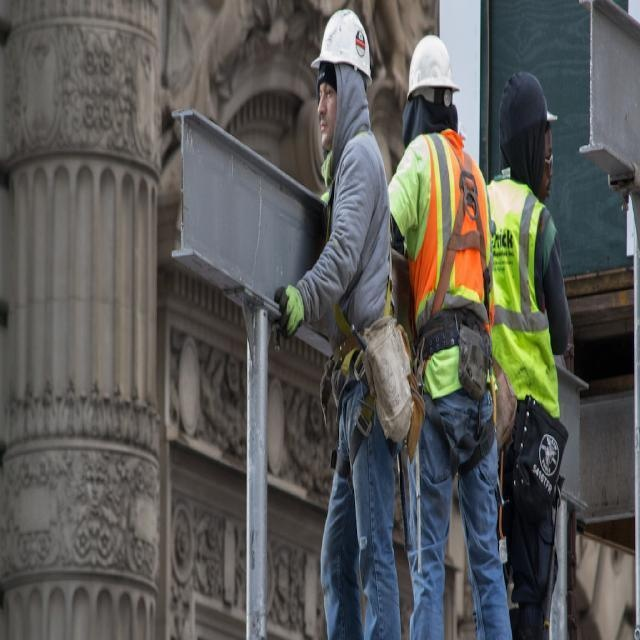Arnes_seguridad: (419, 131, 500, 476), (317, 242, 398, 475)
